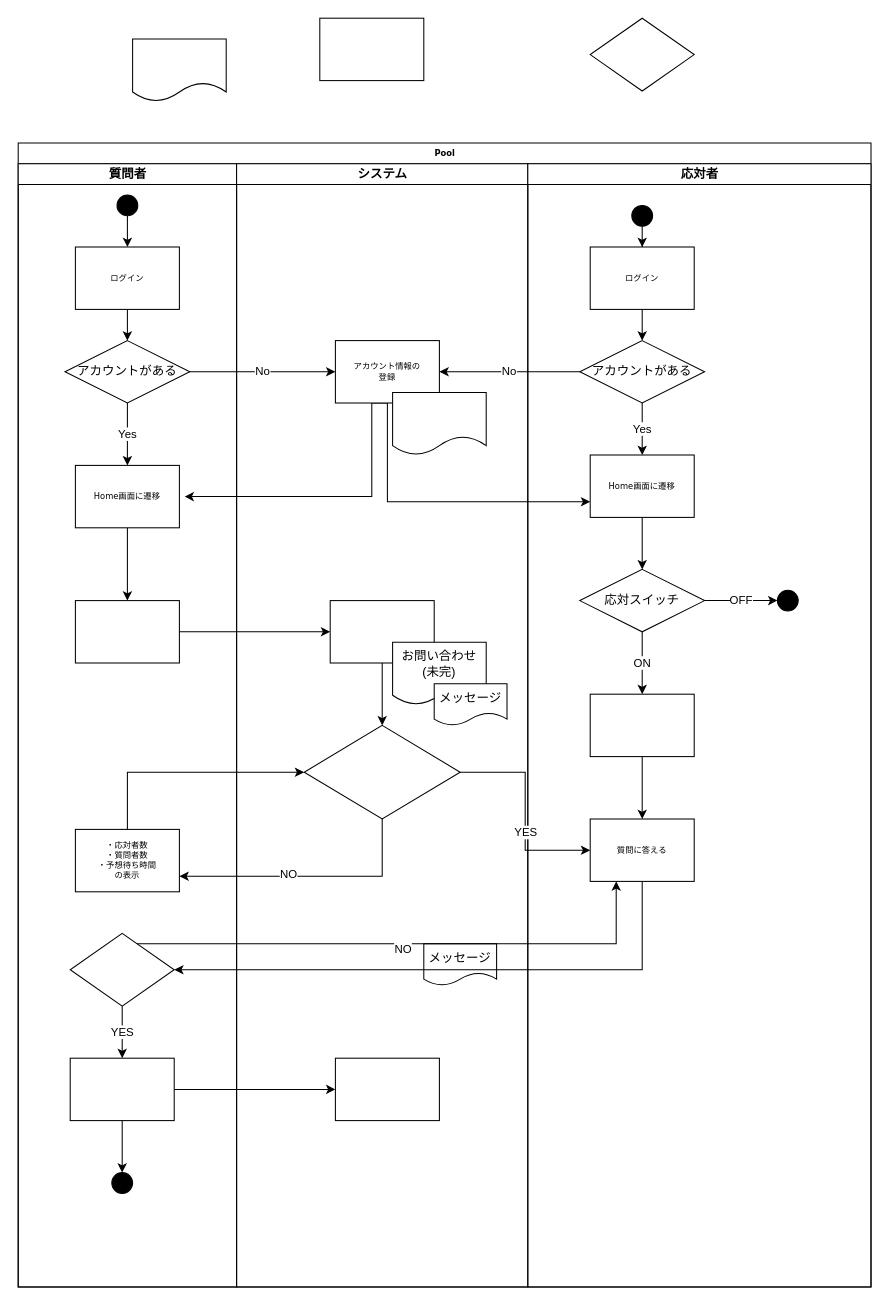
This 889x1305 diagram has some shape labels left out. Here are the shapes that lost their labels. From the top down, the centre of each, then its label:
At pixel 439 423: "アカウント".
At pixel 126 631: "質問をする".
At pixel 381 631: "お問い合わせの作成".
At pixel 641 725: "・お問い合わせ数 の表示".
At pixel 381 771: "応対者が空いている".
At pixel 121 969: "解決した".
At pixel 121 1089: "👍ボタンを押す".
At pixel 386 1089: "お問い合わせの Status更新 (完了）".
